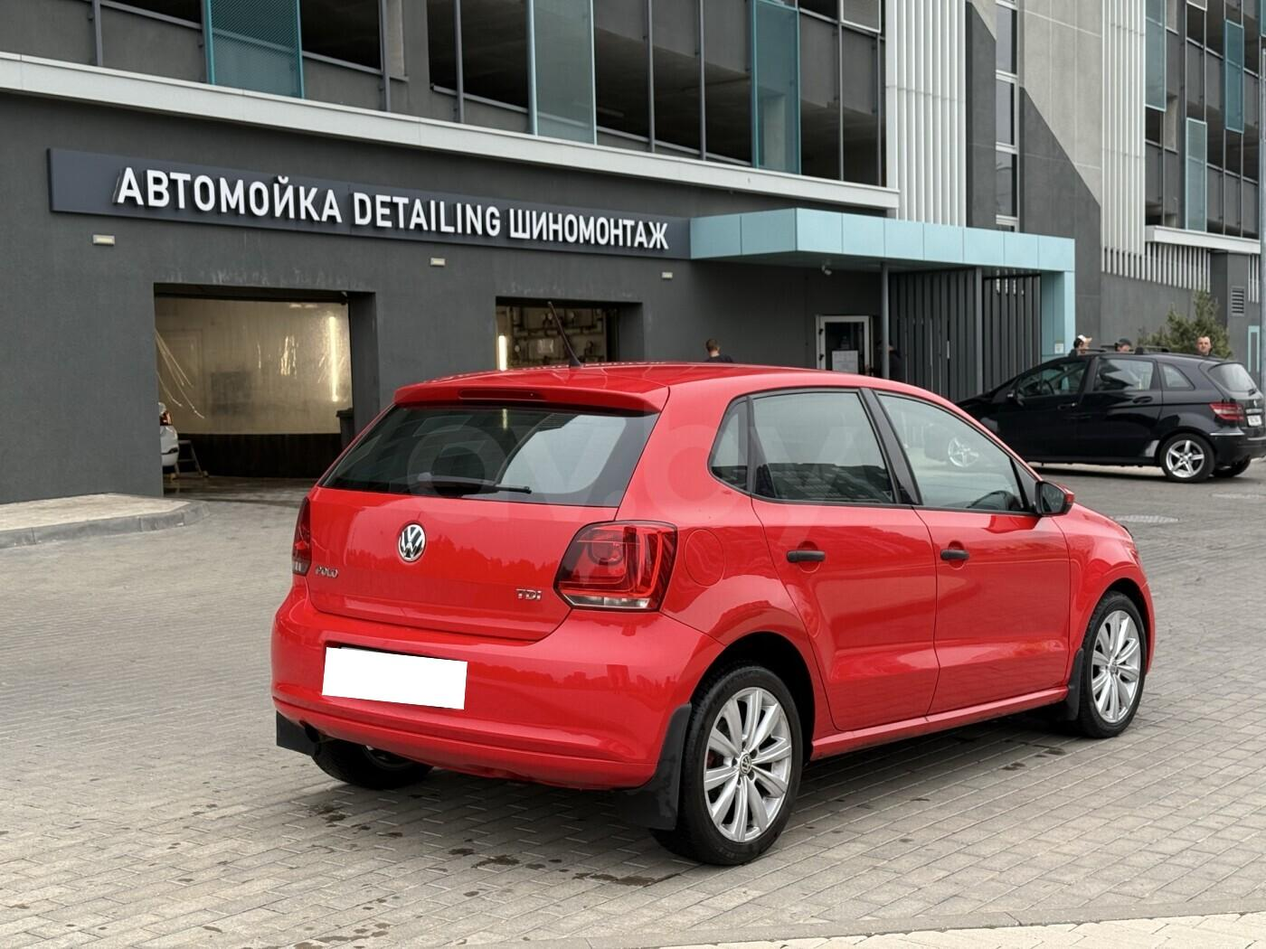Polo_2009-2015: (245, 344, 1154, 882)
